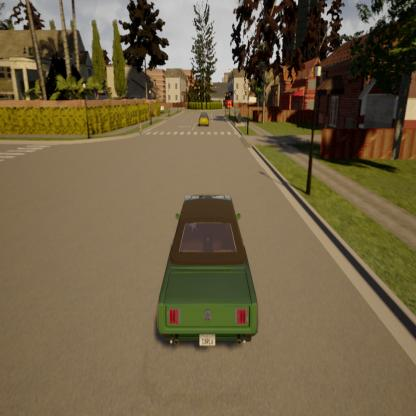Cars: (147, 181, 266, 362), (196, 110, 212, 129)
Pedestrian: (136, 114, 145, 137)
